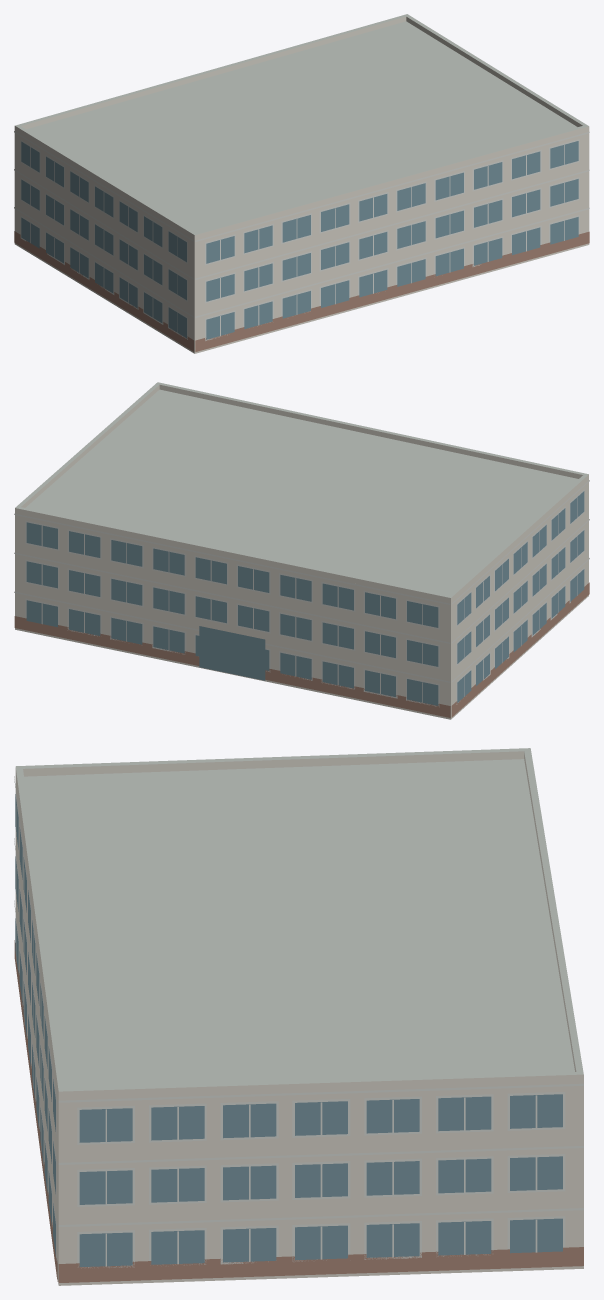
Rendered from public-96212c24-2e22-4b25-9c54-2cf508a01806.glb.
3 renders of one model, top to bottom at view 1: azimuth 30°, elevation 25°; view 2: azimuth 150°, elevation 25°; view 3: azimuth 270°, elevation 25°, orthographic. The views are drawn at different scales.
Visible parts, largest first — view 1: public-96212c24-2e22-4b25-9c54-2cf508a01806; view 2: public-96212c24-2e22-4b25-9c54-2cf508a01806; view 3: public-96212c24-2e22-4b25-9c54-2cf508a01806.
Part boxes in pixels (bbox=[...]): public-96212c24-2e22-4b25-9c54-2cf508a01806: bbox=[14, 14, 589, 353]; public-96212c24-2e22-4b25-9c54-2cf508a01806: bbox=[14, 382, 589, 719]; public-96212c24-2e22-4b25-9c54-2cf508a01806: bbox=[14, 748, 583, 1285].
Size of the model in its own units: 34.84 by 9.15 by 24.59.
